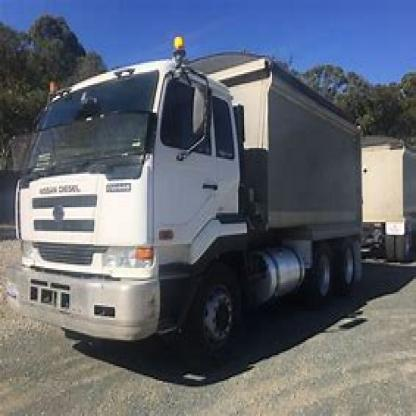dump_truck: (16, 48, 372, 361)
